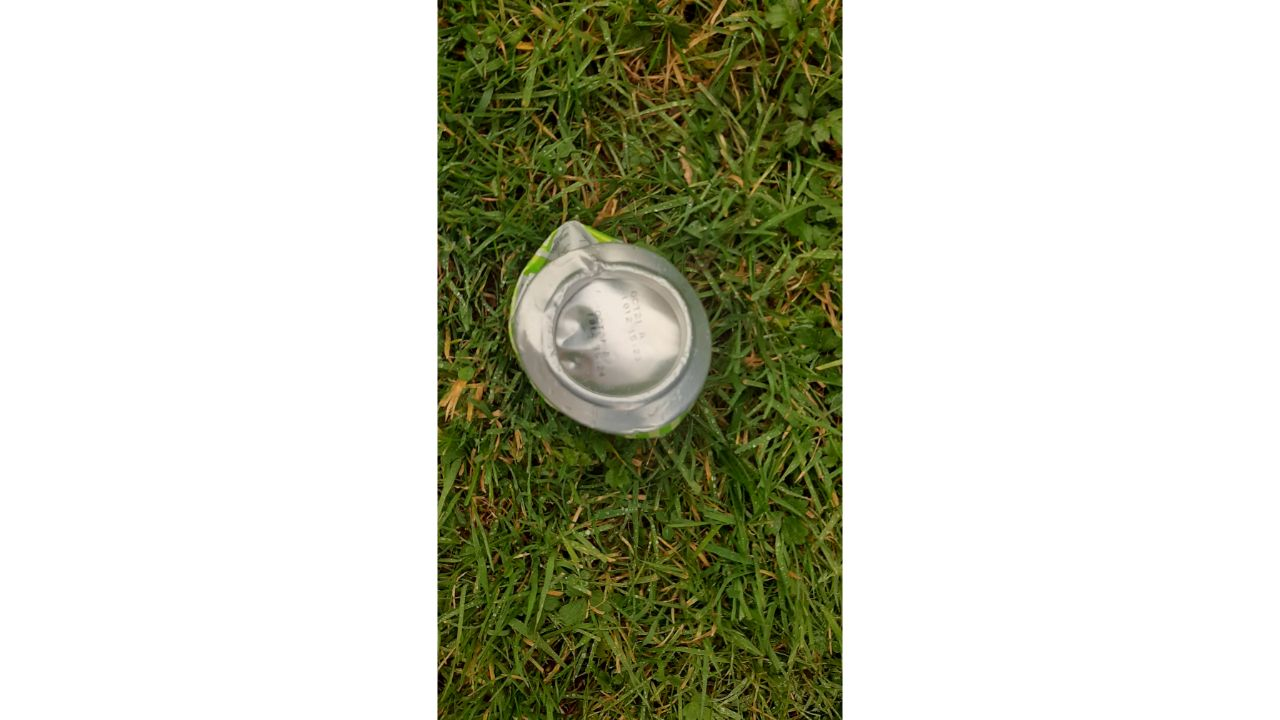Can: (506, 221, 714, 442)
